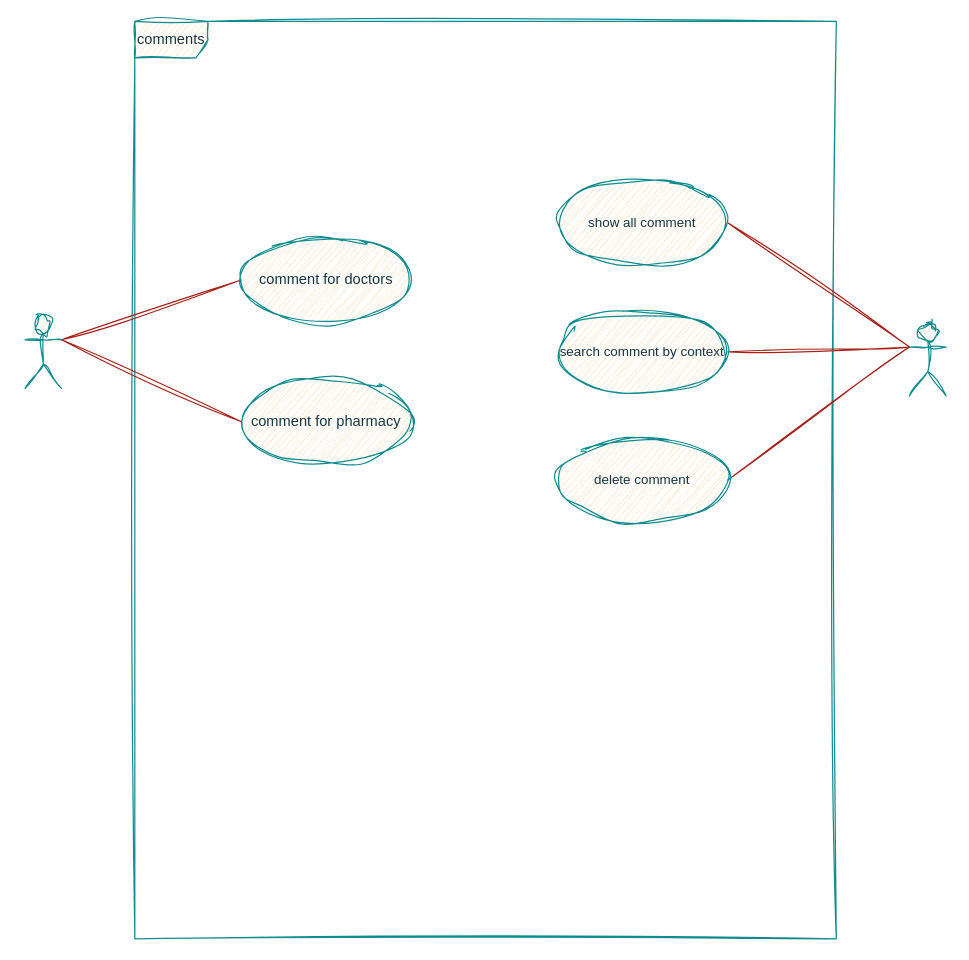
Some shapes in this 969 by 960 pixel diagram are drawn without their labels. Here are the shapes that lost their labels. From the top down, the box of each, then its label:
(24, 314, 62, 389): patient
(908, 321, 946, 396): admin
